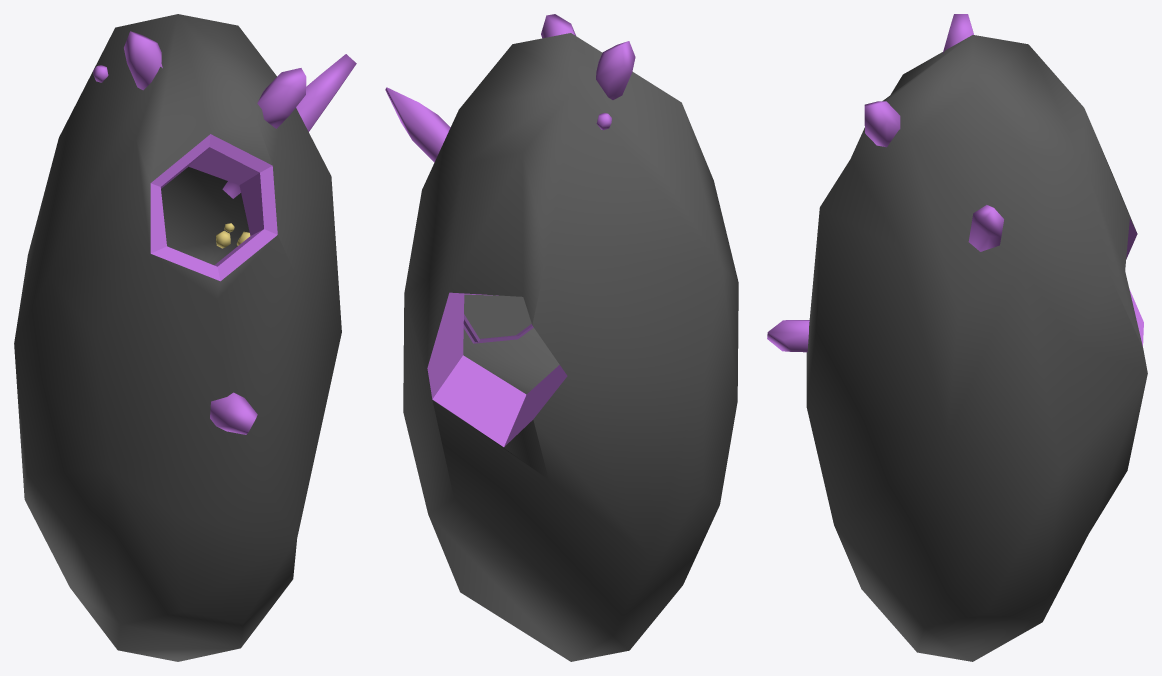
File: lp_open_rock1.fbx
The picture shows the model from 3 angles, left to right: view 1: azimuth 30°, elevation 25°; view 2: azimuth 150°, elevation 25°; view 3: azimuth 270°, elevation 25°; orthographic projection. The views are drawn at different scales.
Visible parts, largest first — view 1: pSolid29; view 2: pSolid29; view 3: pSolid29.
Boxes of the visible parts, left/top/right/bottom form: pSolid29: left=14, top=14, right=356, bottom=661; pSolid29: left=385, top=14, right=738, bottom=661; pSolid29: left=767, top=14, right=1147, bottom=661.
Size of the model in its own units: 5.98 by 11.04 by 6.07.
